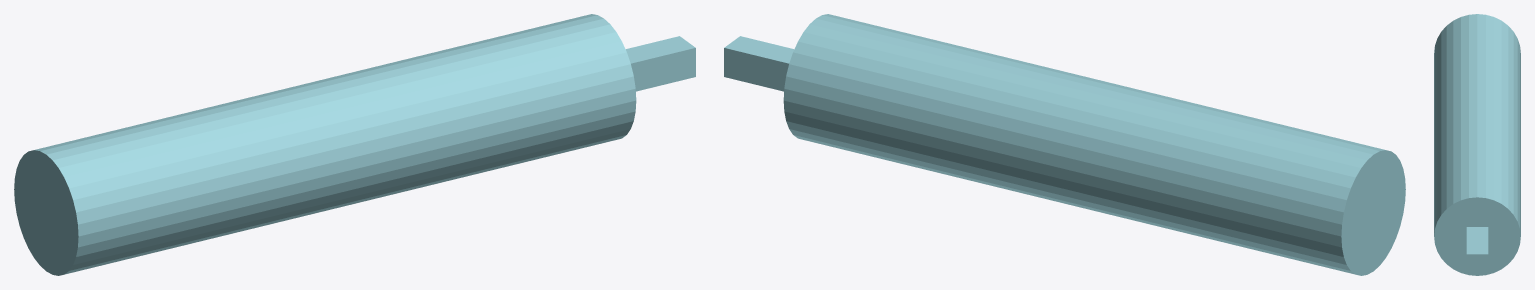
The model's file is primitive_thin_marker.obj.
3 views of the same model, side by side, from view 1: azimuth 30°, elevation 25°; view 2: azimuth 150°, elevation 25°; view 3: azimuth 270°, elevation 25° (orthographic). The views are drawn at different scales.
Bounding box in the file's own units: 0.115 × 0.02 × 0.02.
Materials: 1 (1 with a texture image).
